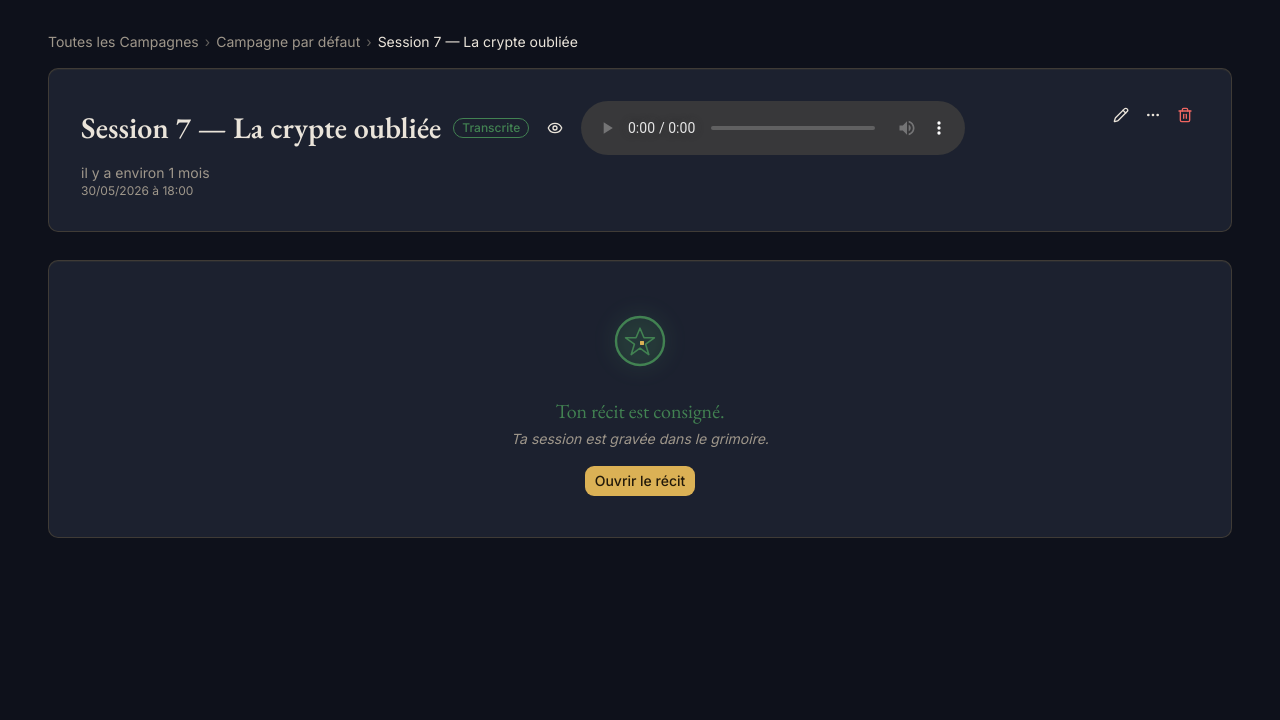
Test: /jdr/campaigns/[campId]/sessions/[sid] page › wires 'Afficher la transcription' to the transcription dialog once transcribed
What coordinates should you click on to do the following:
click the button named "Afficher la transcription"
I would click on:
 (555, 128)
Its box is [541,114,569,142].
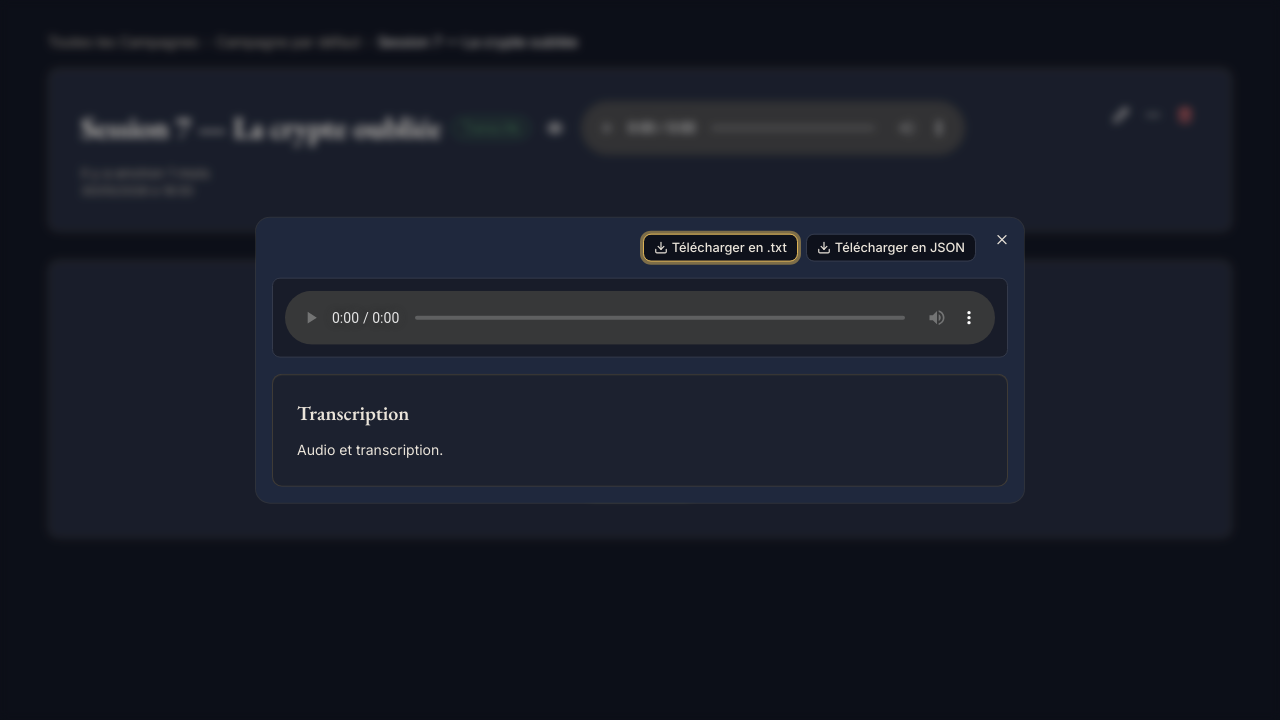
Expected: the element named "Lecteur audio de la séance" is shown, [285,291,995,345]
Expected: the text "Audio et transcription." is shown, [297,441,443,458]
